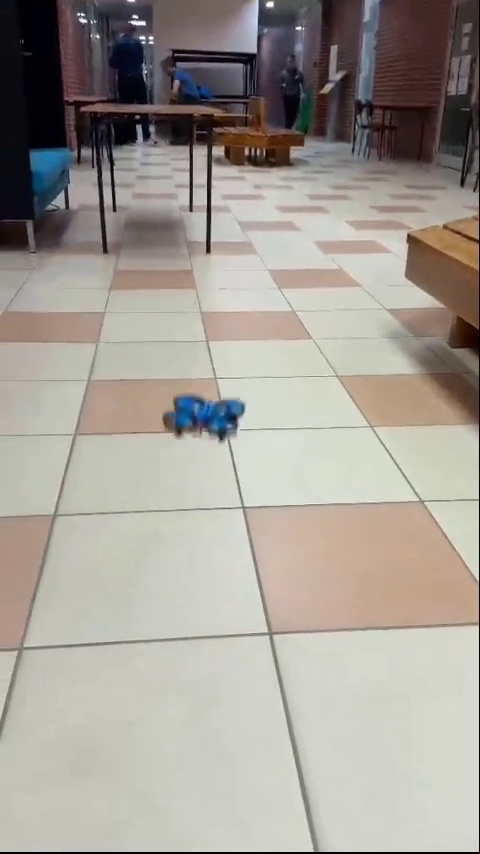drone: (164, 394, 234, 436)
no vest: (114, 25, 156, 147), (274, 54, 309, 124), (164, 61, 209, 102)
